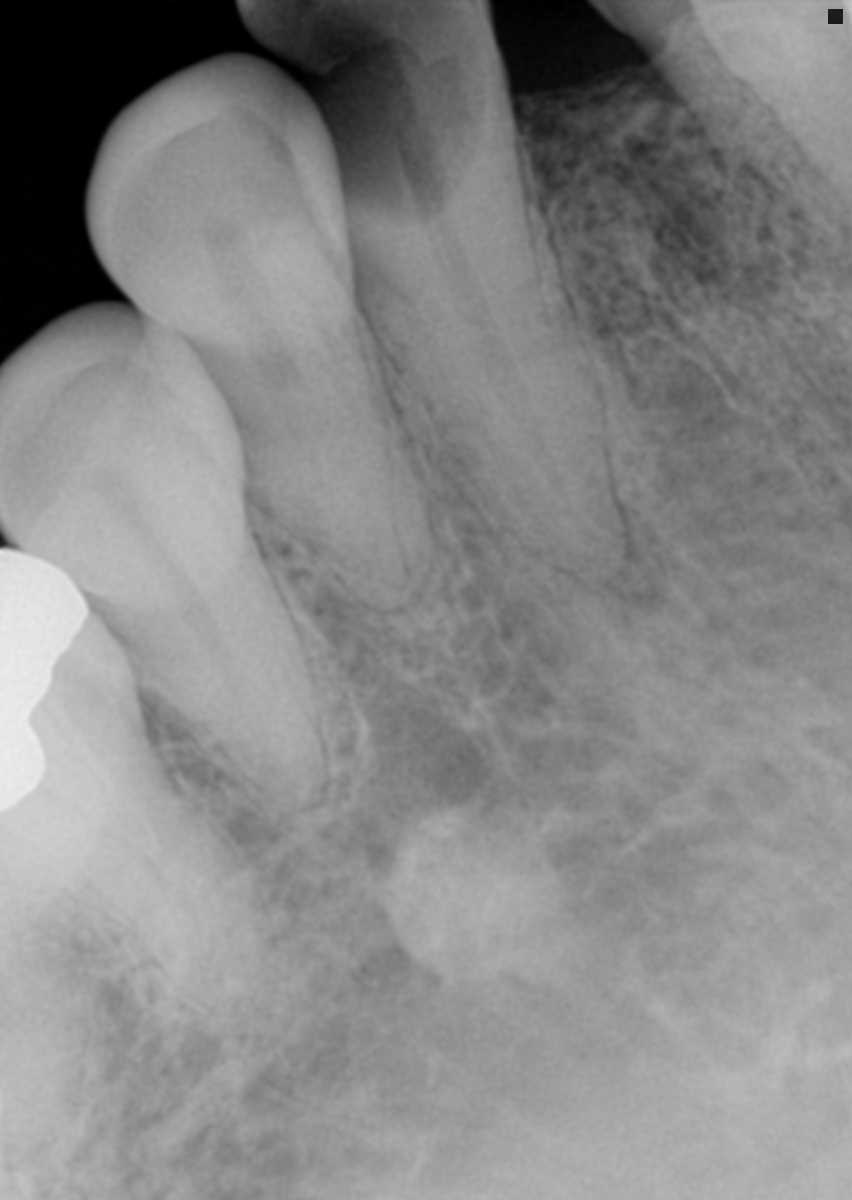Apical Lesion: (608, 510, 677, 612)
Main Canal: (388, 111, 594, 539), (221, 260, 388, 587), (120, 494, 299, 789)
Main Root: (357, 171, 628, 590), (190, 301, 437, 609), (31, 707, 277, 1015), (84, 498, 329, 806)
decay: (300, 10, 483, 215)
